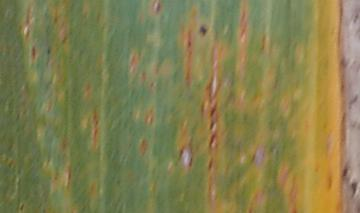tarspot: (196, 23, 209, 37), (348, 181, 358, 199), (207, 105, 218, 119), (30, 44, 37, 65), (206, 156, 214, 172), (153, 1, 163, 13), (208, 133, 214, 148), (208, 120, 215, 132), (186, 155, 193, 167), (186, 39, 193, 47), (342, 167, 347, 177), (45, 46, 50, 56)
